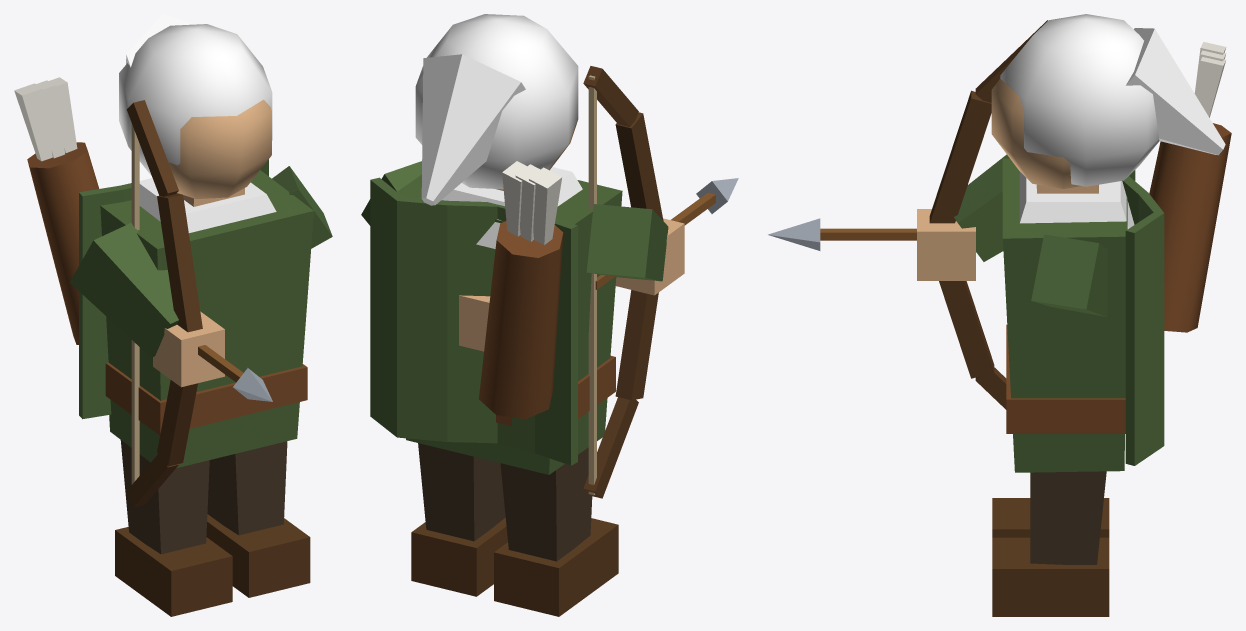
File: Archer_FirstAge.glb
3 renders of one model, left to right at view 1: azimuth 30°, elevation 25°; view 2: azimuth 150°, elevation 25°; view 3: azimuth 270°, elevation 25°, orthographic. The views are drawn at different scales.
Parts seen in each view (by area): view 1: Green, Team, Leather, Left_Dark, Left_Green, Skin, LegA_Dark, LegB_Trouser, LegA_Trouser, LegB_Dark, Feather, Left_Skin (+4 smaller); view 2: Green, Team, Leather, Left_Dark, LegA_Trouser, LegA_Dark, LegB_Trouser, Left_Green, LegB_Dark, Feather, Left_Rope, Left_Skin (+4 smaller); view 3: Green, Team, Leather, Left_Dark, LegB_Dark, LegB_Trouser, Right_Green, Skin, Left_Skin, Left_Green, LegA_Dark, Feather (+2 smaller).
Part boxes in pixels (x1=…): Green: x1=79, y1=159, x2=313, y2=467; Team: x1=119, y1=14, x2=276, y2=232; Leather: x1=27, y1=142, x2=307, y2=435; Left_Dark: x1=126, y1=100, x2=202, y2=507; Left_Green: x1=70, y1=222, x2=178, y2=357; Skin: x1=168, y1=99, x2=271, y2=206; LegA_Dark: x1=115, y1=527, x2=232, y2=616; LegB_Trouser: x1=207, y1=441, x2=287, y2=535; LegA_Trouser: x1=120, y1=440, x2=209, y2=554; LegB_Dark: x1=206, y1=514, x2=310, y2=597; Feather: x1=14, y1=77, x2=77, y2=161; Left_Skin: x1=153, y1=311, x2=224, y2=387; Green: x1=370, y1=174, x2=622, y2=474; Team: x1=415, y1=14, x2=582, y2=248; Leather: x1=479, y1=221, x2=615, y2=426; Left_Dark: x1=583, y1=66, x2=663, y2=498; LegA_Trouser: x1=500, y1=447, x2=592, y2=561; LegA_Dark: x1=494, y1=518, x2=618, y2=616; LegB_Trouser: x1=418, y1=443, x2=505, y2=541; Left_Green: x1=586, y1=204, x2=668, y2=281; LegB_Dark: x1=411, y1=517, x2=507, y2=596; Feather: x1=502, y1=161, x2=562, y2=245; Left_Rope: x1=588, y1=75, x2=596, y2=495; Left_Skin: x1=615, y1=218, x2=684, y2=295; Green: x1=1002, y1=158, x2=1164, y2=472; Team: x1=1000, y1=14, x2=1225, y2=228; Leather: x1=1006, y1=123, x2=1231, y2=433; Left_Dark: x1=929, y1=20, x2=1047, y2=409; LegB_Dark: x1=992, y1=537, x2=1109, y2=616; LegB_Trouser: x1=1030, y1=471, x2=1106, y2=564; Right_Green: x1=1031, y1=234, x2=1107, y2=316; Skin: x1=991, y1=78, x2=1098, y2=193; Left_Skin: x1=917, y1=209, x2=975, y2=280; Left_Green: x1=954, y1=154, x2=1009, y2=261; LegA_Dark: x1=992, y1=498, x2=1109, y2=537; Feather: x1=1194, y1=42, x2=1226, y2=117.
Bounding box in the file's own units: 0.4162 × 0.8195 × 0.6142.
